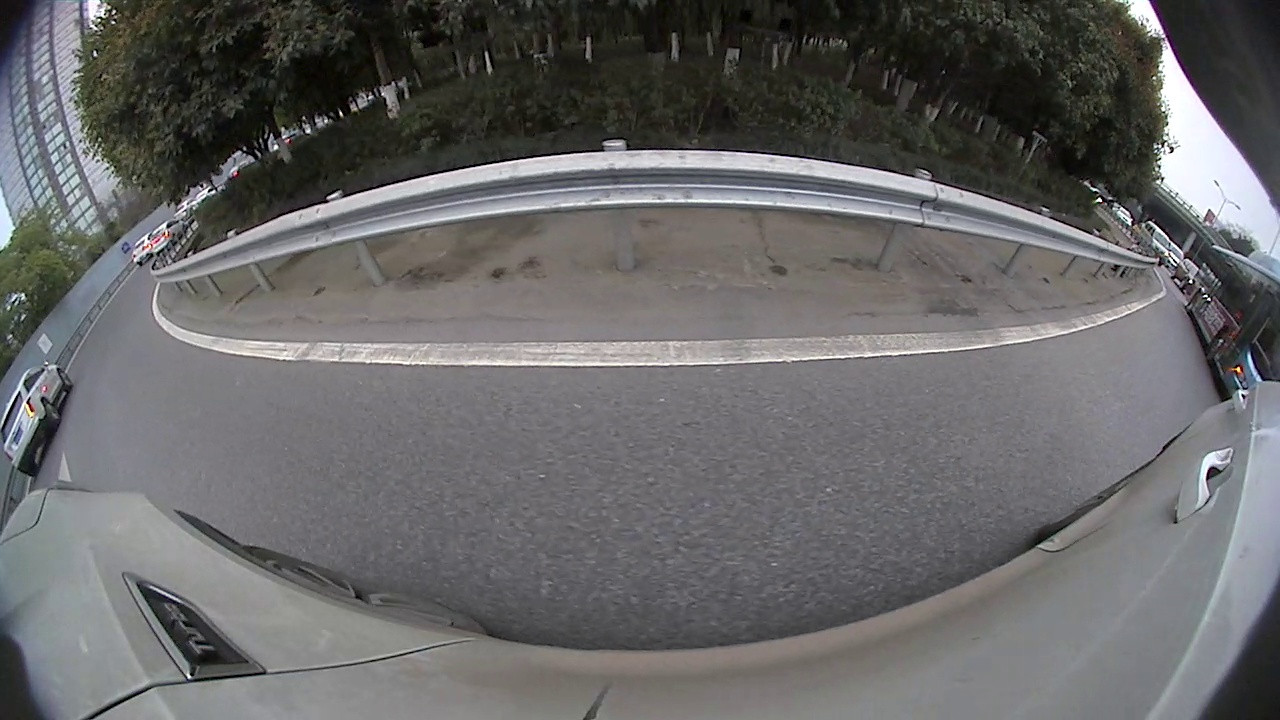bus: (1178, 235, 1279, 404)
car: (1, 359, 72, 476), (1138, 219, 1174, 271), (147, 215, 189, 257), (128, 230, 164, 269)
front: (1204, 329, 1227, 360), (58, 369, 74, 390)
rear: (43, 403, 66, 425)
